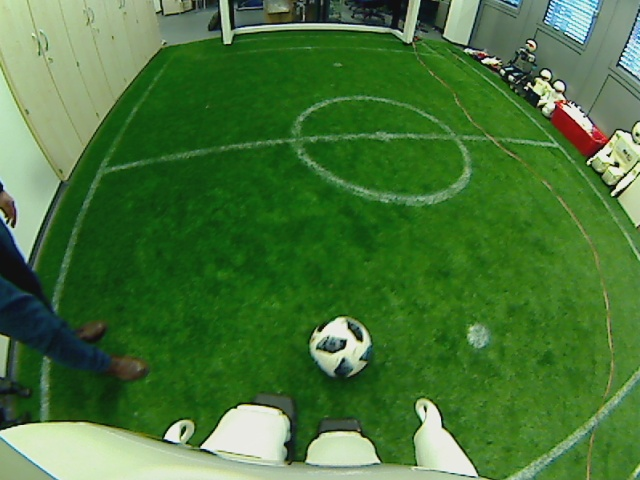ball: (306, 314, 374, 379)
